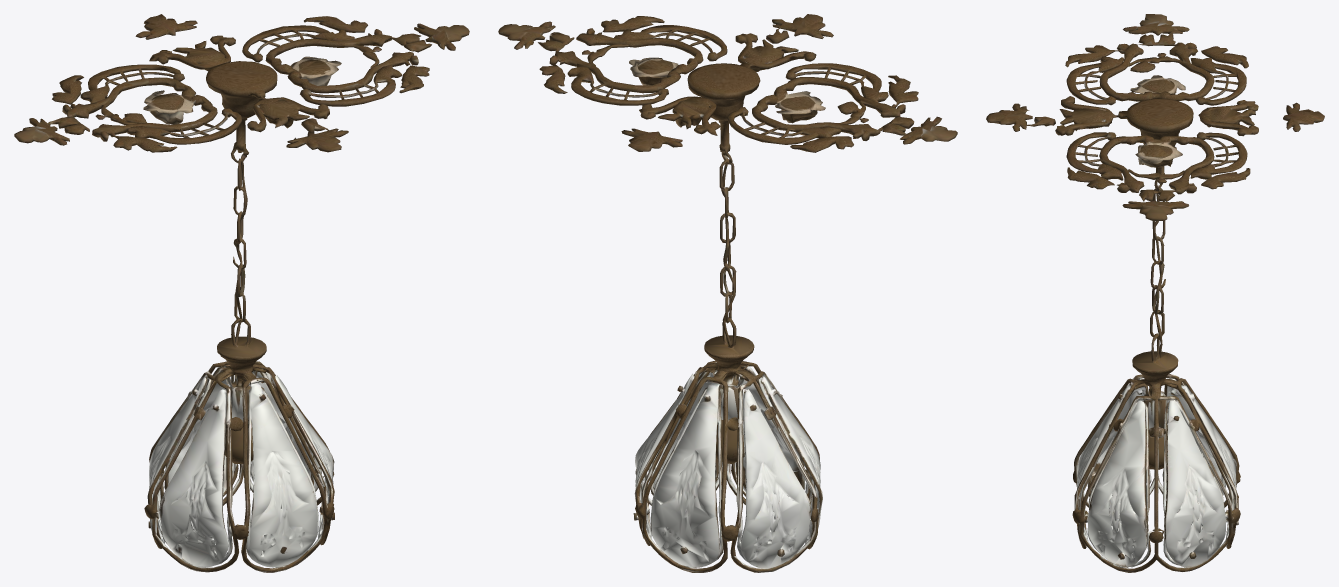
File: lantern.glb
3 views of the same model, side by side, from view 1: azimuth 30°, elevation 25°; view 2: azimuth 150°, elevation 25°; view 3: azimuth 270°, elevation 25° (orthographic). The views are drawn at different scales.
Visible parts, largest first — view 1: Mesh_0; view 2: Mesh_0; view 3: Mesh_0.
Part boxes in pixels (x1,y1,x2,y2): Mesh_0: (14, 14, 469, 572); Mesh_0: (498, 14, 957, 572); Mesh_0: (986, 14, 1324, 572).
Bounding box in the file's own units: 1.9 × 1.88 × 1.33.
1 material, 1 textured.
